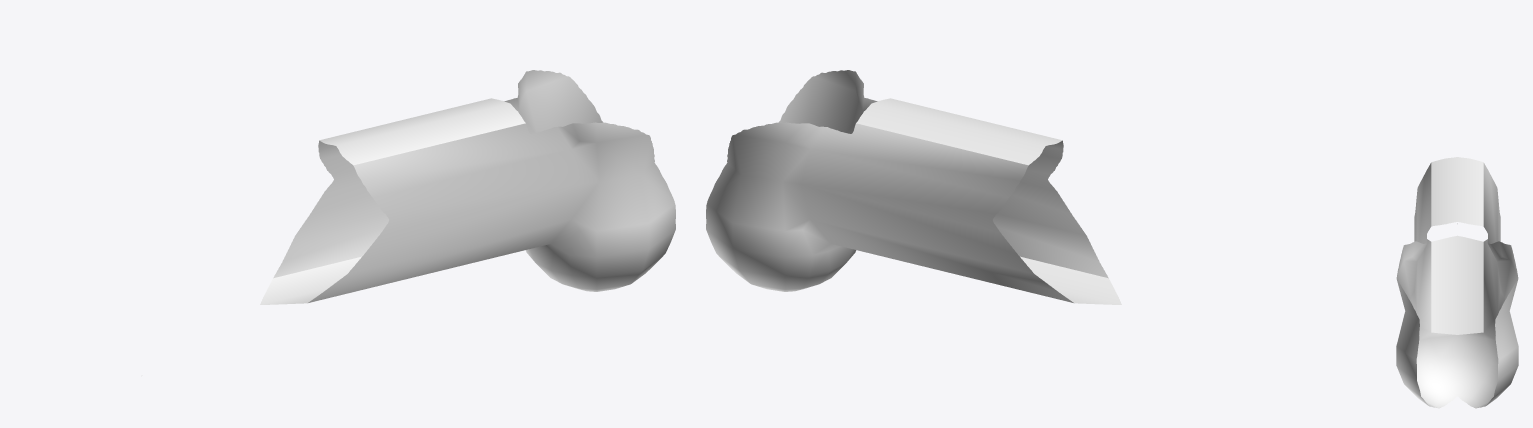
Rendered from bone.fbx.
The picture shows the model from 3 angles, left to right: view 1: azimuth 30°, elevation 25°; view 2: azimuth 150°, elevation 25°; view 3: azimuth 270°, elevation 25°; orthographic projection. The views are drawn at different scales.
Parts seen in each view (by area): view 1: bone; view 2: bone; view 3: bone.
Boxes of the visible parts, x1,y1,x2,y2 form: bone: [260, 70, 675, 304]; bone: [706, 70, 1121, 304]; bone: [1396, 157, 1518, 408].
Size of the model in its own units: 0.4552 by 0.1784 by 0.098.
